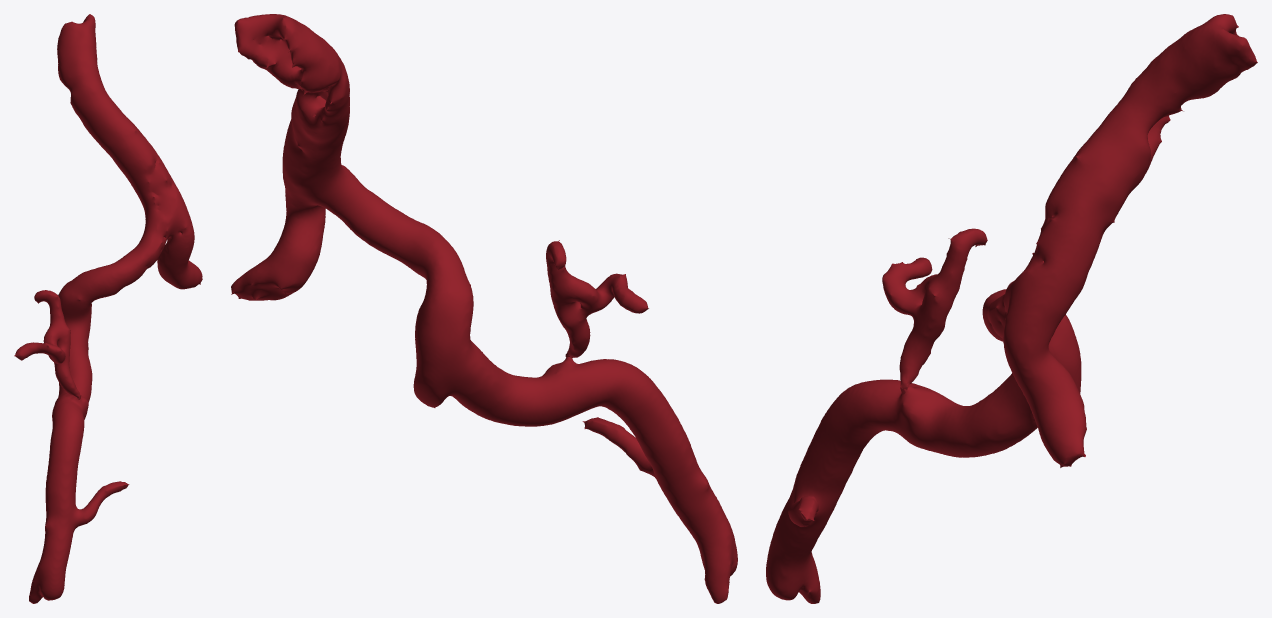
File: stenosis.glb
The picture shows the model from 3 angles, left to right: view 1: azimuth 30°, elevation 25°; view 2: azimuth 150°, elevation 25°; view 3: azimuth 270°, elevation 25°; orthographic projection. The views are drawn at different scales.
Visible parts, largest first — view 1: ras2xcom; view 2: ras2xcom; view 3: ras2xcom.
Part boxes in pixels (box(x1,y1,x2,y2)): ras2xcom: box(14, 14, 202, 603); ras2xcom: box(231, 14, 737, 603); ras2xcom: box(766, 14, 1257, 603).
Size of the model in its own units: 141 by 239 by 148.
